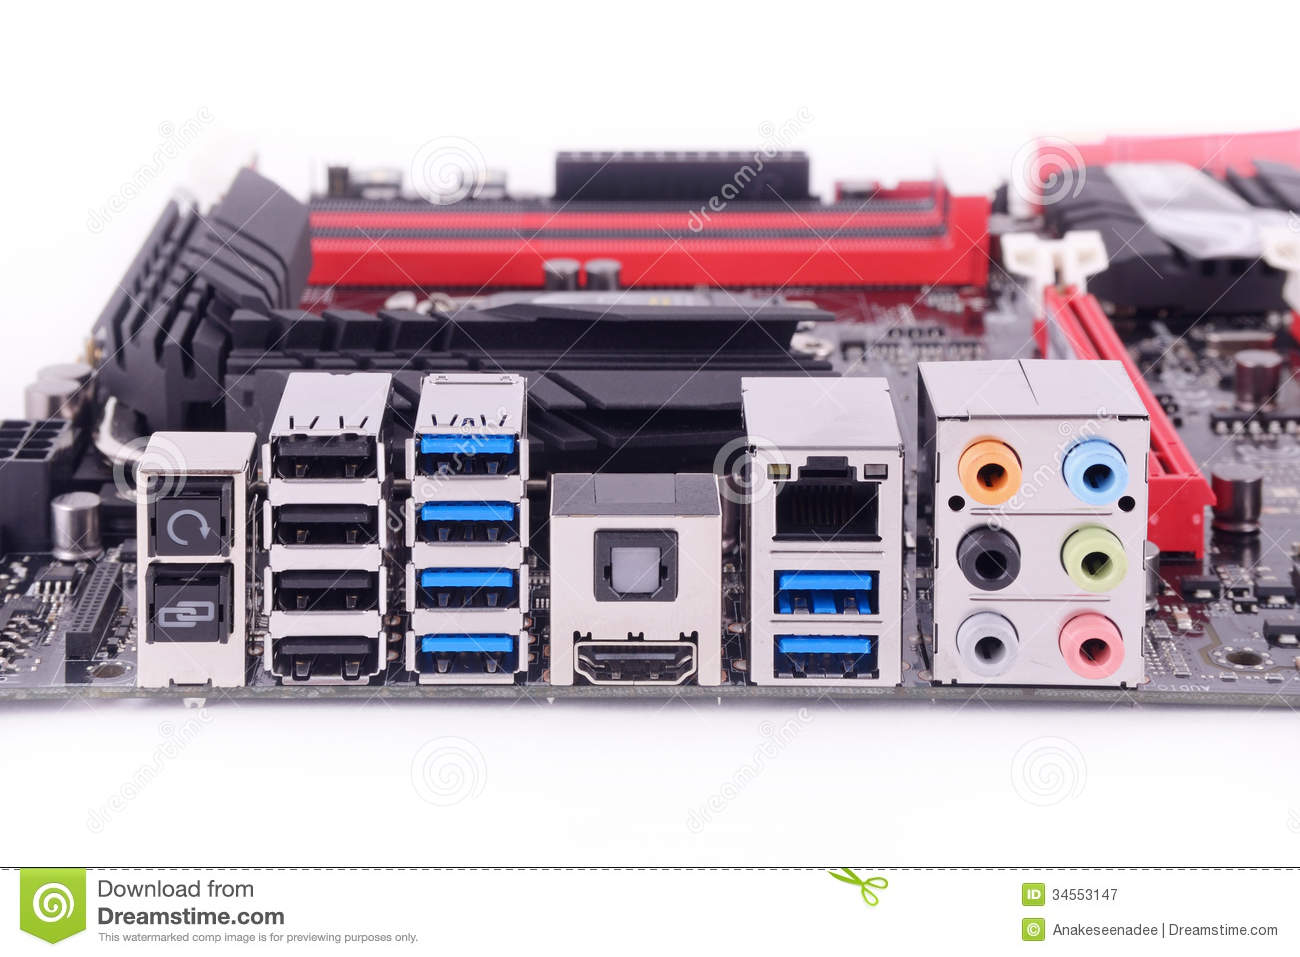Audio: (948, 429, 1030, 506), (1047, 520, 1134, 590)
Ethernet: (758, 456, 896, 563)
HDMI: (559, 631, 711, 688)
USB: (759, 634, 891, 685)
